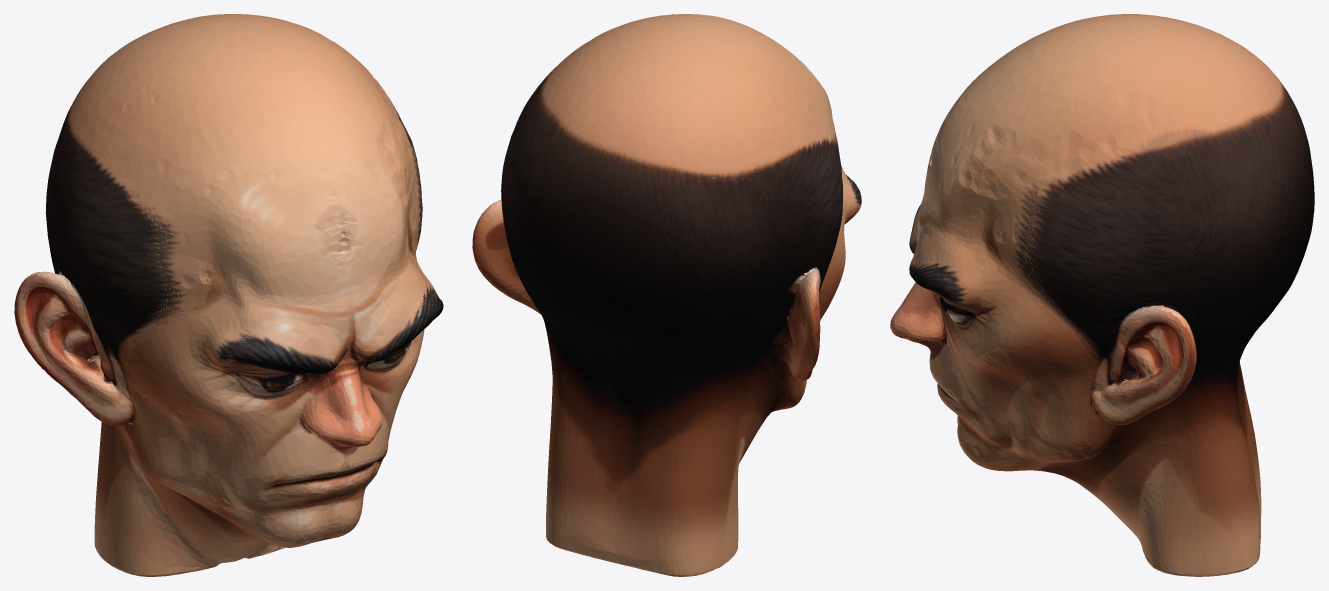
File: side_sumi_repaired_atlas.glb
3 views of the same model, side by side, from view 1: azimuth 30°, elevation 25°; view 2: azimuth 150°, elevation 25°; view 3: azimuth 270°, elevation 25° (orthographic). The views are drawn at different scales.
Parts seen in each view (by area): view 1: temp_mesh.ply; view 2: temp_mesh.ply; view 3: temp_mesh.ply.
Boxes of the visible parts, x1,y1,x2,y2 form: temp_mesh.ply: [14, 14, 443, 576]; temp_mesh.ply: [472, 14, 861, 576]; temp_mesh.ply: [890, 14, 1314, 576].
Size of the model in its own units: 0.9813 by 1.32 by 1.
1 material, 1 textured.
